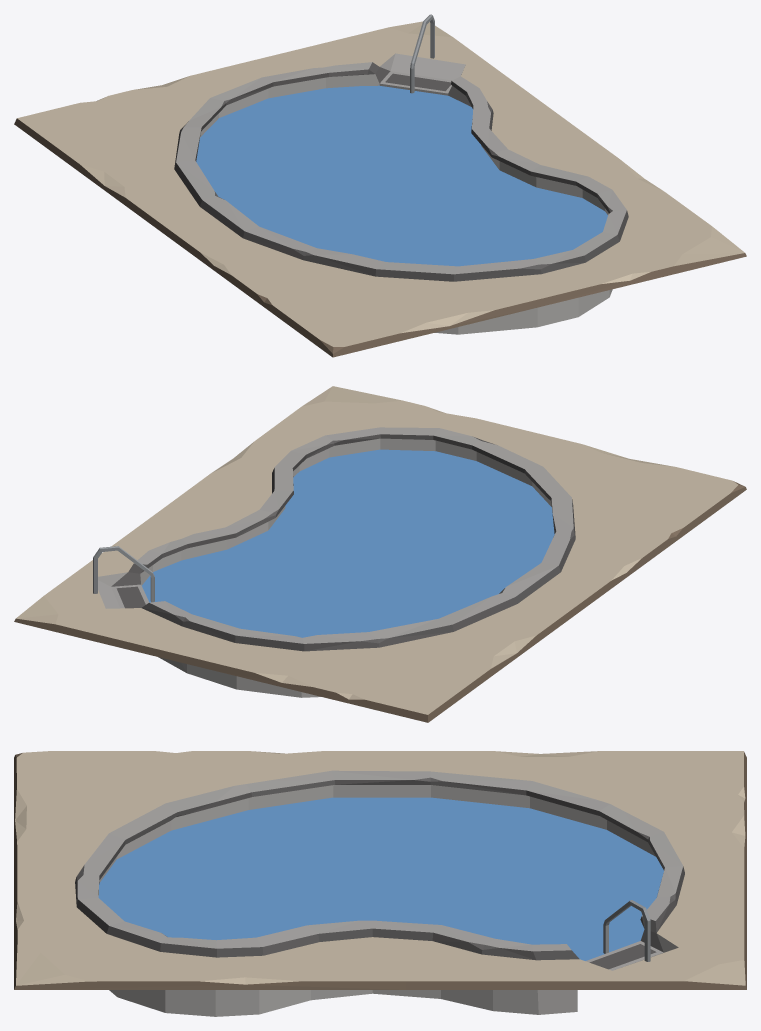
File: SM_Prop_Pool_Inground_01.fbx
The picture shows the model from 3 angles, top to bottom: view 1: azimuth 30°, elevation 25°; view 2: azimuth 150°, elevation 25°; view 3: azimuth 270°, elevation 25°; orthographic projection. The views are drawn at different scales.
Visible parts, largest first — view 1: SM_Prop_Pool_Inground_01, SM_Prop_Pool_Inground_Water_01; view 2: SM_Prop_Pool_Inground_01, SM_Prop_Pool_Inground_Water_01; view 3: SM_Prop_Pool_Inground_01, SM_Prop_Pool_Inground_Water_01.
Part boxes in pixels (left/top/right/bottom): SM_Prop_Pool_Inground_01: left=14, top=14, right=746, bottom=357; SM_Prop_Pool_Inground_Water_01: left=196, top=85, right=607, bottom=266; SM_Prop_Pool_Inground_01: left=14, top=386, right=746, bottom=722; SM_Prop_Pool_Inground_Water_01: left=142, top=449, right=554, bottom=637; SM_Prop_Pool_Inground_01: left=14, top=751, right=746, bottom=1016; SM_Prop_Pool_Inground_Water_01: left=98, top=797, right=663, bottom=960.
Size of the model in its own units: 750 by 179 by 1000.
